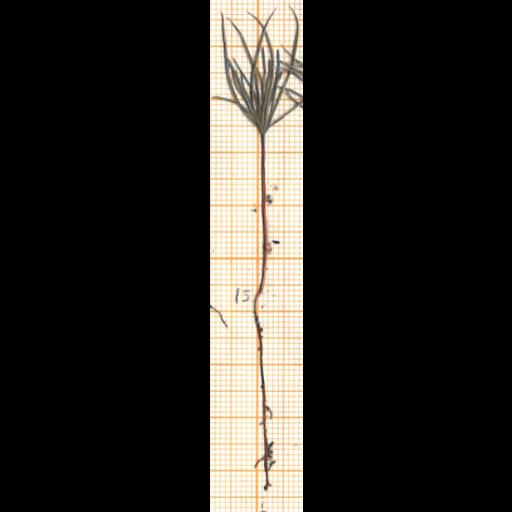flowerPinus: (219, 10, 299, 137)
rootPinus: (255, 313, 272, 491)
stemPinus: (255, 135, 268, 303)
